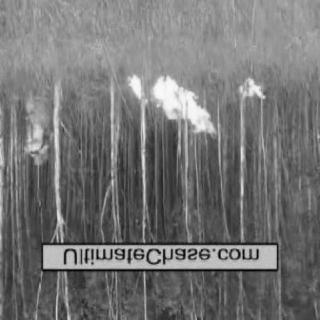Fire: (146, 71, 220, 143), (233, 71, 269, 111), (124, 76, 144, 106)
